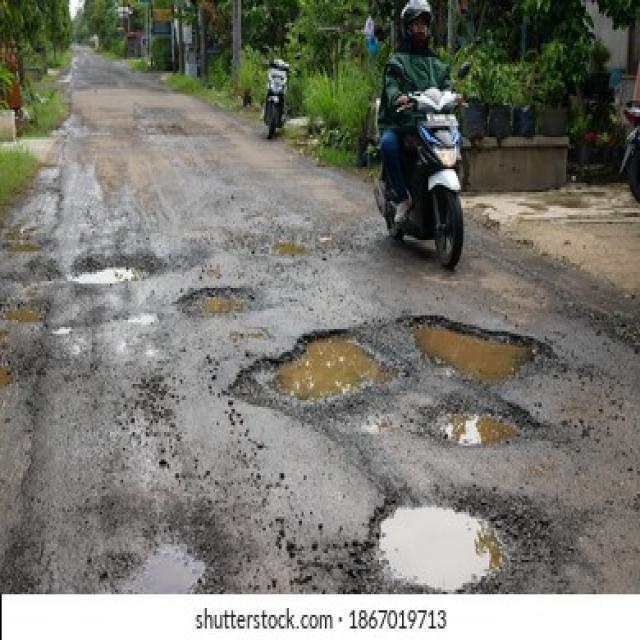Pothole: (224, 316, 542, 446), (365, 502, 552, 594), (64, 249, 150, 296), (128, 548, 205, 595), (176, 288, 249, 316)
